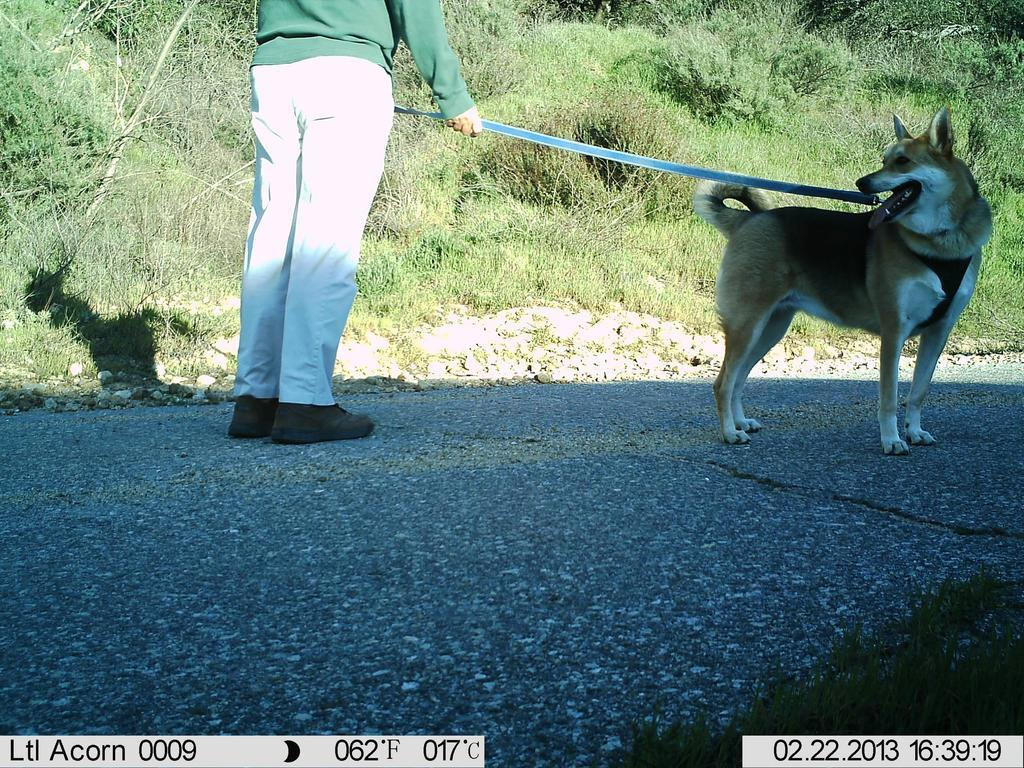dog: (688, 143, 981, 503)
